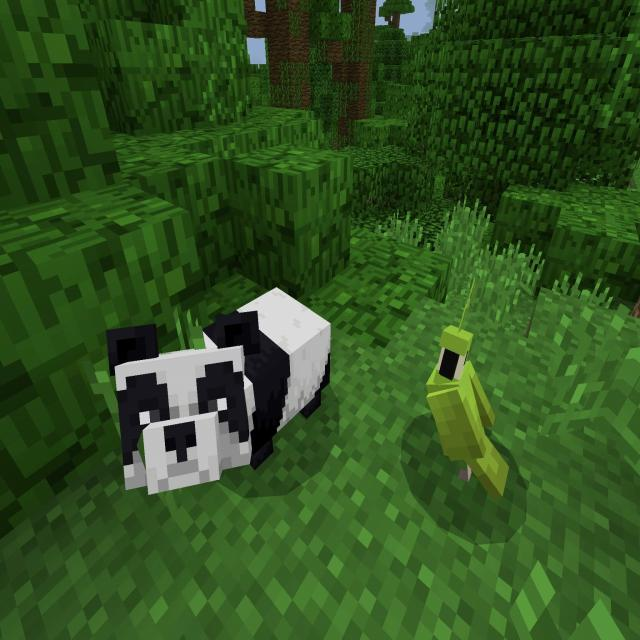Panda: (103, 284, 341, 499)
